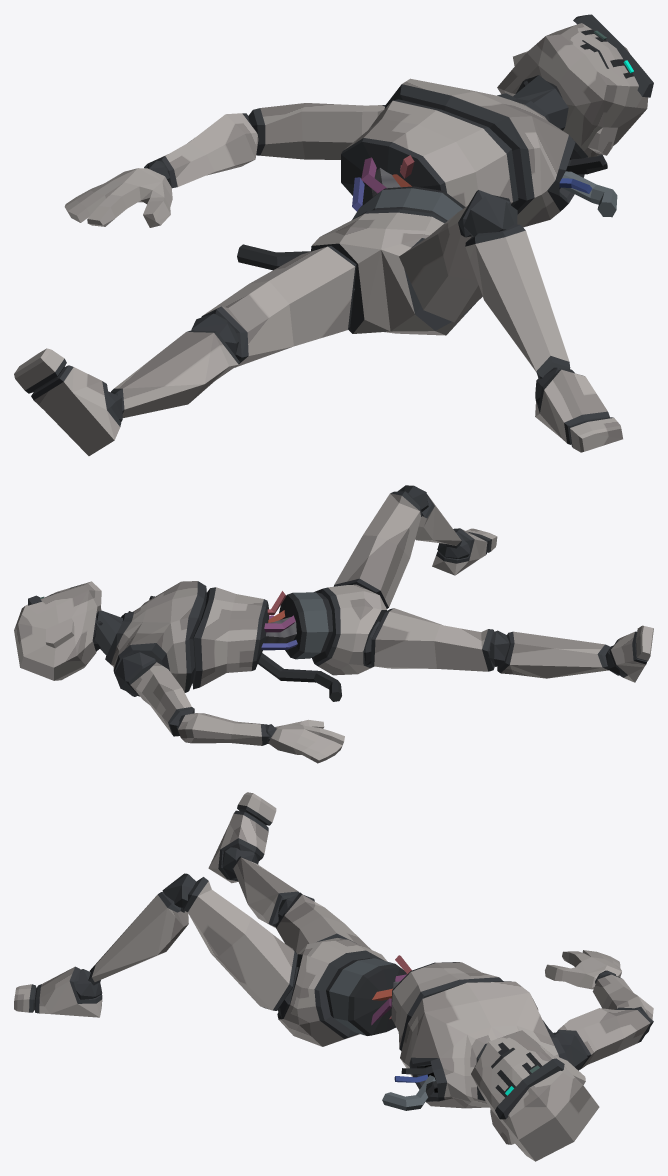
File: SM_Prop_Robot_Posed_03.fbx
3 renders of one model, top to bottom at view 1: azimuth 30°, elevation 25°; view 2: azimuth 150°, elevation 25°; view 3: azimuth 270°, elevation 25°, orthographic. The views are drawn at different scales.
Parts seen in each view (by area): view 1: SM_Prop_Robot_Posed_03; view 2: SM_Prop_Robot_Posed_03; view 3: SM_Prop_Robot_Posed_03.
Boxes of the visible parts, bbox=[...] form: SM_Prop_Robot_Posed_03: bbox=[14, 14, 653, 455]; SM_Prop_Robot_Posed_03: bbox=[14, 485, 653, 763]; SM_Prop_Robot_Posed_03: bbox=[14, 792, 653, 1161].
Size of the model in its own units: 179 by 46.12 by 164.
